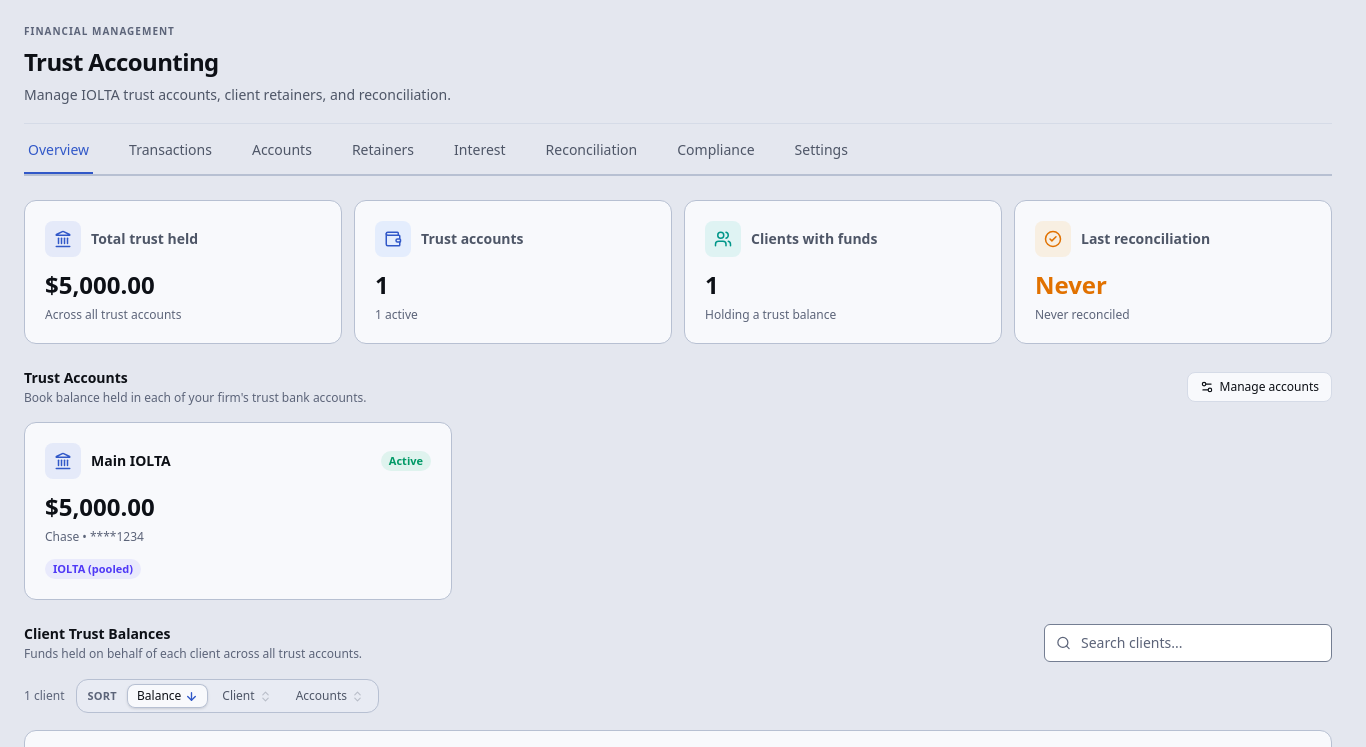
a refused action: the filtered ledger request fails › reports the failure and offers a retry rather than showing an empty ledger
Click the button with aria-label "View transactions for Main IOLTA" at (100, 506), box [45,491,431,547]
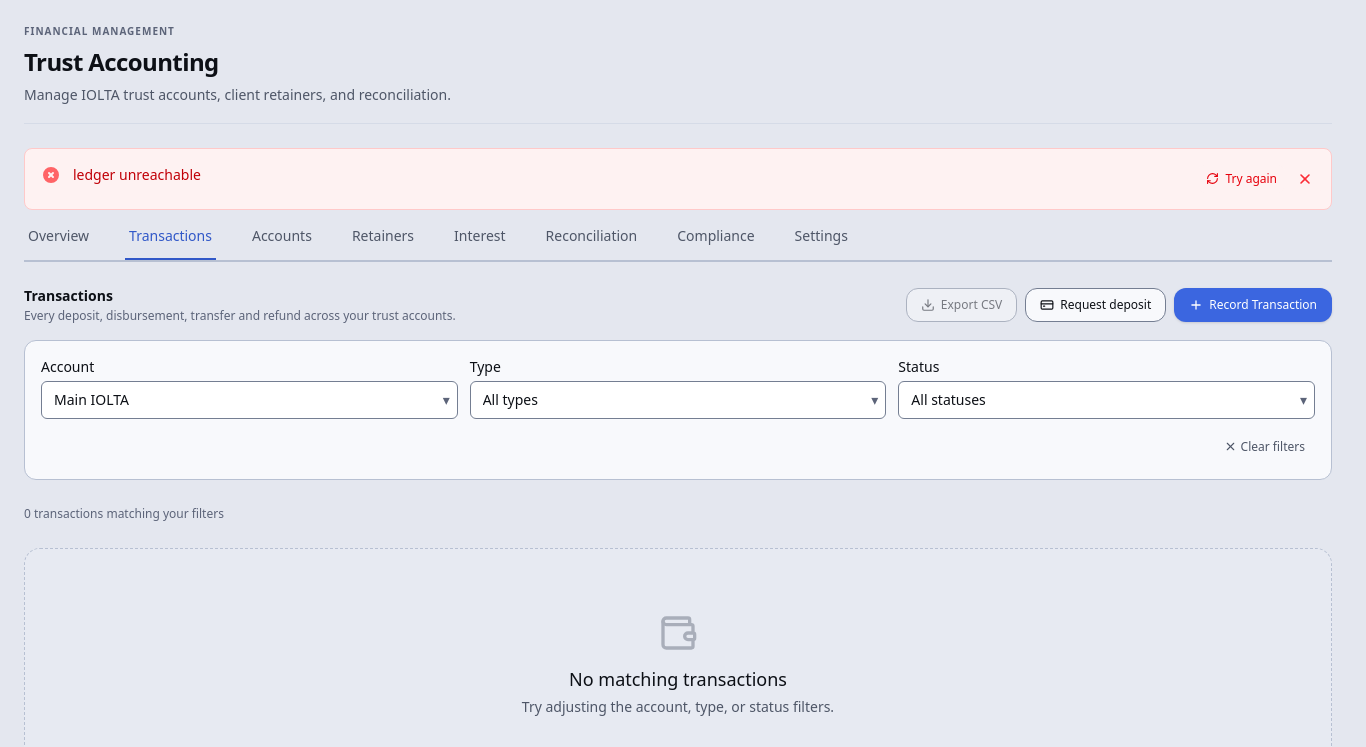
Expected: the message shows "ledger unreachable", [73,165,201,184]
